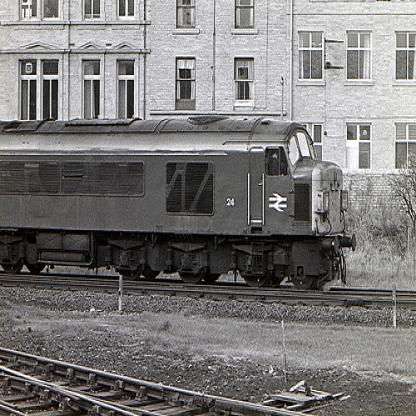train: (0, 112, 356, 288)
